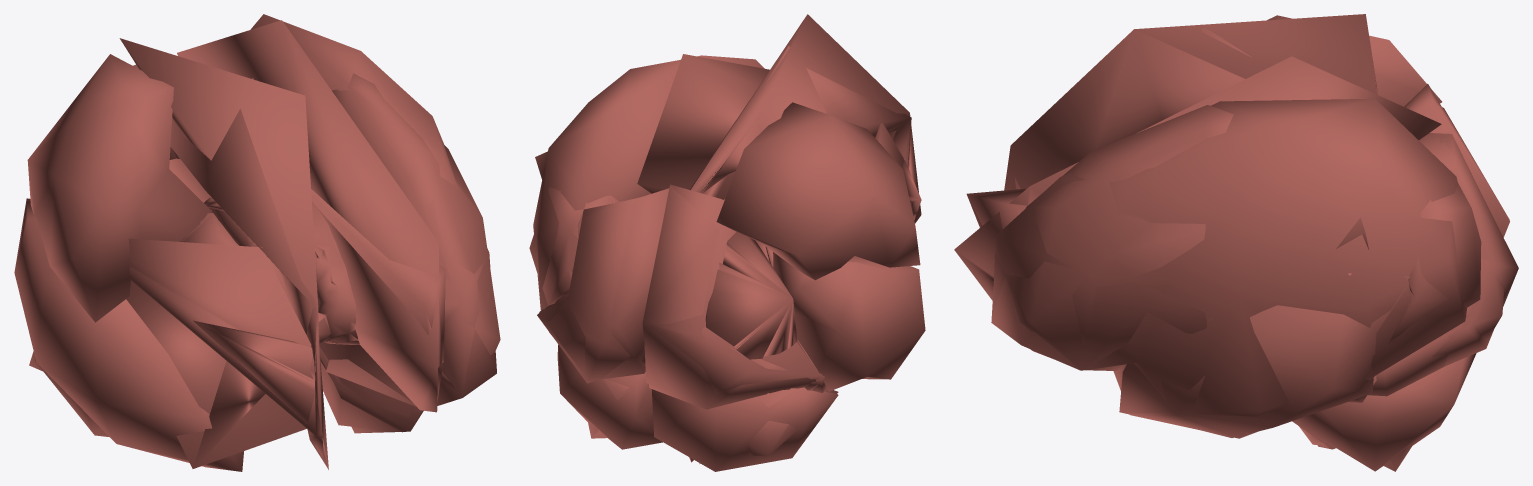
File: atlas_nervous_mni152.territories.LOD4.glb
3 renders of one model, left to right at view 1: azimuth 30°, elevation 25°; view 2: azimuth 150°, elevation 25°; view 3: azimuth 270°, elevation 25°, orthographic. The views are drawn at different scales.
Parts seen in each view (by area): view 1: ATLAS.NERVOUS.MNI152.TERRITORIES.MCA_TERRITORY_PARIETAL.R, ATLAS.NERVOUS.MNI152.TERRITORIES.ACA_TERRITORY.L, ATLAS.NERVOUS.MNI152.TERRITORIES.MCA_MAJOR_TERRITORY.R, ATLAS.NERVOUS.MNI152.TERRITORIES.MCA_TERRITORY_TEMPORAL.R, ATLAS.NERVOUS.MNI152.TERRITORIES.ACA_TERRITORY.R, ATLAS.NERVOUS.MNI152.TERRITORIES.MCA_MAJOR_TERRITORY.L, ATLAS.NERVOUS.MNI152.TERRITORIES.MCA_TERRITORY_FRONTAL.L, ATLAS.NERVOUS.MNI152.TERRITORIES.ACA_MAJOR_TERRITORY.R, ATLAS.NERVOUS.MNI152.TERRITORIES.MCA_TERRITORY_FRONTAL.R, ATLAS.NERVOUS.MNI152.TERRITORIES.MEDIAL_LENTICULOSTRIATE_TER (×2), ATLAS.NERVOUS.MNI152.TERRITORIES.ACA_MAJOR_TERRITORY.L, ATLAS.NERVOUS.MNI152.TERRITORIES.MCA_TERRITORY_TEMPORAL.L (+3 smaller); view 2: ATLAS.NERVOUS.MNI152.TERRITORIES.MCA_TERRITORY_PARIETAL.R, ATLAS.NERVOUS.MNI152.TERRITORIES.VERTEBROBASILAR_MAJOR_TERRI (×2), ATLAS.NERVOUS.MNI152.TERRITORIES.MCA_TERRITORY_TEMPORAL.R, ATLAS.NERVOUS.MNI152.TERRITORIES.MCA_MAJOR_TERRITORY.L, ATLAS.NERVOUS.MNI152.TERRITORIES.PCA_MAJOR_TERRITORY.R, ATLAS.NERVOUS.MNI152.TERRITORIES.ACA_TERRITORY.L, ATLAS.NERVOUS.MNI152.TERRITORIES.ACA_TERRITORY.R, ATLAS.NERVOUS.MNI152.TERRITORIES.PCA_TERRITORY_OCCIPITAL.L, ATLAS.NERVOUS.MNI152.TERRITORIES.MCA_TERRITORY_OCCIPITAL.R, ATLAS.NERVOUS.MNI152.TERRITORIES.PCA_MAJOR_TERRITORY.L, ATLAS.NERVOUS.MNI152.TERRITORIES.PCA_TERRITORY_OCCIPITAL.R, ATLAS.NERVOUS.MNI152.TERRITORIES.ACA_MAJOR_TERRITORY.R (+4 smaller); view 3: ATLAS.NERVOUS.MNI152.TERRITORIES.MCA_MAJOR_TERRITORY.L, ATLAS.NERVOUS.MNI152.TERRITORIES.MCA_TERRITORY_FRONTAL.L, ATLAS.NERVOUS.MNI152.TERRITORIES.ACA_TERRITORY.R, ATLAS.NERVOUS.MNI152.TERRITORIES.MCA_TERRITORY_TEMPORAL.L, ATLAS.NERVOUS.MNI152.TERRITORIES.VERTEBROBASILAR_MAJOR_TERRI, ATLAS.NERVOUS.MNI152.TERRITORIES.ACA_TERRITORY.L, ATLAS.NERVOUS.MNI152.TERRITORIES.MCA_TERRITORY_OCCIPITAL.L, ATLAS.NERVOUS.MNI152.TERRITORIES.PCA_TERRITORY_OCCIPITAL.L, ATLAS.NERVOUS.MNI152.TERRITORIES.PCA_MAJOR_TERRITORY.L, ATLAS.NERVOUS.MNI152.TERRITORIES.MCA_TERRITORY_PARIETAL.R, ATLAS.NERVOUS.MNI152.TERRITORIES.PCA_TERRITORY_OCCIPITAL.R, ATLAS.NERVOUS.MNI152.TERRITORIES.ACA_MAJOR_TERRITORY.L.
Part boxes in pixels (x1=…): ATLAS.NERVOUS.MNI152.TERRITORIES.MCA_TERRITORY_PARIETAL.R: x1=27, y1=54, x2=211, y2=322; ATLAS.NERVOUS.MNI152.TERRITORIES.ACA_TERRITORY.L: x1=177, y1=20, x2=442, y2=412; ATLAS.NERVOUS.MNI152.TERRITORIES.MCA_MAJOR_TERRITORY.R: x1=126, y1=238, x2=315, y2=468; ATLAS.NERVOUS.MNI152.TERRITORIES.MCA_TERRITORY_TEMPORAL.R: x1=14, y1=198, x2=243, y2=471; ATLAS.NERVOUS.MNI152.TERRITORIES.ACA_TERRITORY.R: x1=119, y1=38, x2=323, y2=457; ATLAS.NERVOUS.MNI152.TERRITORIES.MCA_MAJOR_TERRITORY.L: x1=250, y1=14, x2=496, y2=432; ATLAS.NERVOUS.MNI152.TERRITORIES.MCA_TERRITORY_FRONTAL.L: x1=326, y1=73, x2=500, y2=406; ATLAS.NERVOUS.MNI152.TERRITORIES.ACA_MAJOR_TERRITORY.R: x1=170, y1=78, x2=328, y2=469; ATLAS.NERVOUS.MNI152.TERRITORIES.MCA_TERRITORY_FRONTAL.R: x1=193, y1=320, x2=315, y2=431; ATLAS.NERVOUS.MNI152.TERRITORIES.MEDIAL_LENTICULOSTRIATE_TER (×2): x1=204, y1=197, x2=359, y2=344; ATLAS.NERVOUS.MNI152.TERRITORIES.ACA_MAJOR_TERRITORY.L: x1=311, y1=189, x2=445, y2=401; ATLAS.NERVOUS.MNI152.TERRITORIES.MCA_TERRITORY_TEMPORAL.L: x1=319, y1=347, x2=423, y2=433; ATLAS.NERVOUS.MNI152.TERRITORIES.MCA_TERRITORY_PARIETAL.R: x1=716, y1=102, x2=920, y2=280; ATLAS.NERVOUS.MNI152.TERRITORIES.VERTEBROBASILAR_MAJOR_TERRI (×2): x1=557, y1=344, x2=838, y2=471; ATLAS.NERVOUS.MNI152.TERRITORIES.MCA_TERRITORY_TEMPORAL.R: x1=773, y1=252, x2=925, y2=391; ATLAS.NERVOUS.MNI152.TERRITORIES.MCA_MAJOR_TERRITORY.L: x1=533, y1=59, x2=680, y2=309; ATLAS.NERVOUS.MNI152.TERRITORIES.PCA_MAJOR_TERRITORY.R: x1=643, y1=186, x2=822, y2=394; ATLAS.NERVOUS.MNI152.TERRITORIES.ACA_TERRITORY.L: x1=637, y1=54, x2=769, y2=193; ATLAS.NERVOUS.MNI152.TERRITORIES.ACA_TERRITORY.R: x1=689, y1=14, x2=921, y2=223; ATLAS.NERVOUS.MNI152.TERRITORIES.PCA_TERRITORY_OCCIPITAL.L: x1=537, y1=197, x2=645, y2=383; ATLAS.NERVOUS.MNI152.TERRITORIES.MCA_TERRITORY_OCCIPITAL.R: x1=705, y1=232, x2=797, y2=359; ATLAS.NERVOUS.MNI152.TERRITORIES.PCA_MAJOR_TERRITORY.L: x1=539, y1=188, x2=669, y2=379; ATLAS.NERVOUS.MNI152.TERRITORIES.PCA_TERRITORY_OCCIPITAL.R: x1=642, y1=184, x2=816, y2=409; ATLAS.NERVOUS.MNI152.TERRITORIES.ACA_MAJOR_TERRITORY.R: x1=702, y1=46, x2=911, y2=201; ATLAS.NERVOUS.MNI152.TERRITORIES.MCA_MAJOR_TERRITORY.L: x1=991, y1=98, x2=1466, y2=438; ATLAS.NERVOUS.MNI152.TERRITORIES.MCA_TERRITORY_FRONTAL.L: x1=993, y1=105, x2=1233, y2=370; ATLAS.NERVOUS.MNI152.TERRITORIES.ACA_TERRITORY.R: x1=1004, y1=14, x2=1377, y2=190; ATLAS.NERVOUS.MNI152.TERRITORIES.MCA_TERRITORY_TEMPORAL.L: x1=1119, y1=273, x2=1410, y2=437; ATLAS.NERVOUS.MNI152.TERRITORIES.VERTEBROBASILAR_MAJOR_TERRI: x1=1292, y1=353, x2=1476, y2=471; ATLAS.NERVOUS.MNI152.TERRITORIES.ACA_TERRITORY.L: x1=954, y1=56, x2=1441, y2=300; ATLAS.NERVOUS.MNI152.TERRITORIES.MCA_TERRITORY_OCCIPITAL.L: x1=1386, y1=182, x2=1481, y2=347; ATLAS.NERVOUS.MNI152.TERRITORIES.PCA_TERRITORY_OCCIPITAL.L: x1=1432, y1=135, x2=1518, y2=366; ATLAS.NERVOUS.MNI152.TERRITORIES.PCA_MAJOR_TERRITORY.L: x1=1368, y1=133, x2=1504, y2=396; ATLAS.NERVOUS.MNI152.TERRITORIES.MCA_TERRITORY_PARIETAL.R: x1=1267, y1=15, x2=1441, y2=106; ATLAS.NERVOUS.MNI152.TERRITORIES.PCA_TERRITORY_OCCIPITAL.R: x1=1404, y1=84, x2=1509, y2=237; ATLAS.NERVOUS.MNI152.TERRITORIES.ACA_MAJOR_TERRITORY.L: x1=966, y1=188, x2=1026, y2=229.
Size of the model in its own units: 0.1469 by 0.1577 by 0.1958.
